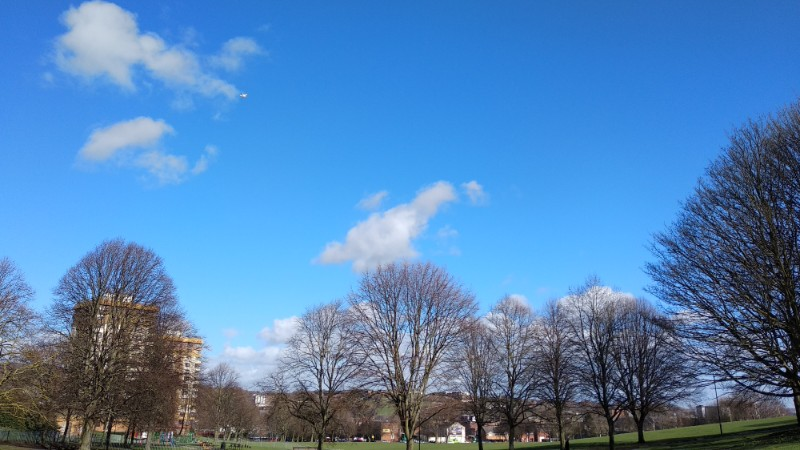drone: (239, 90, 247, 99)
